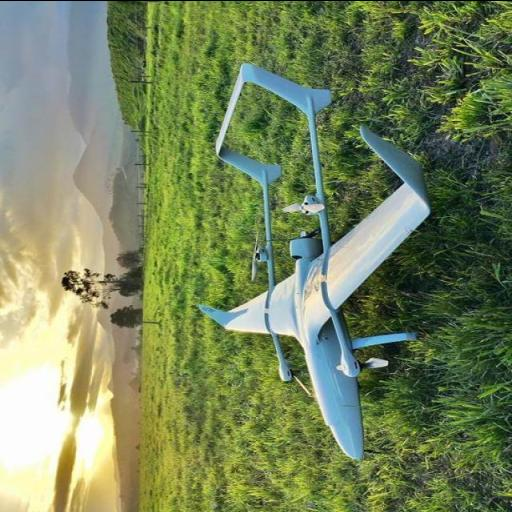uav: (198, 60, 434, 465)
